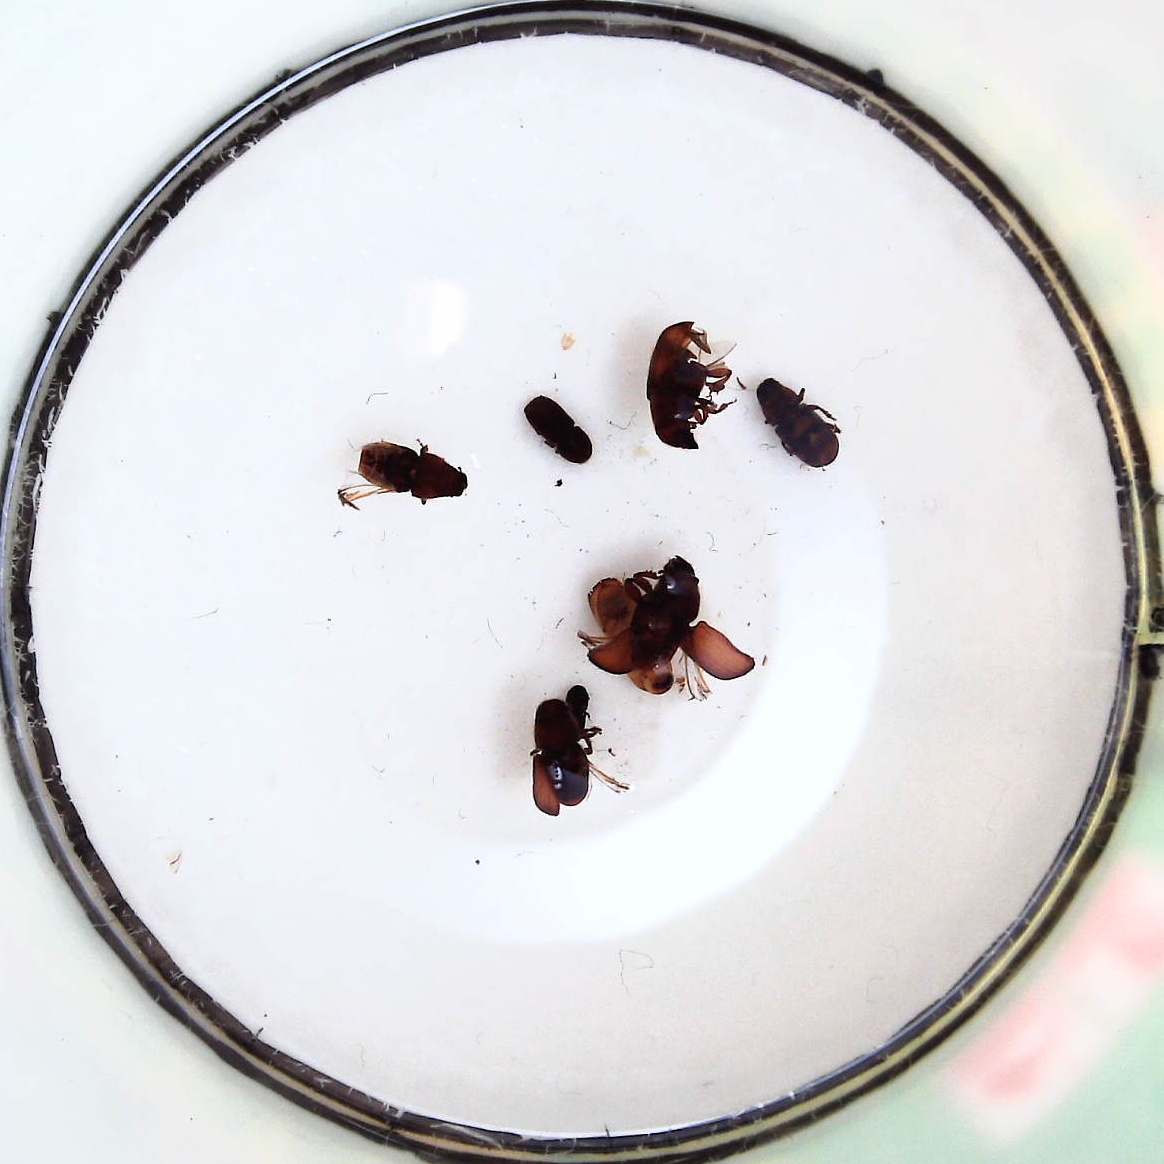Leconte: (630, 555, 758, 680), (644, 314, 728, 455), (753, 373, 843, 470), (349, 435, 469, 506), (528, 699, 589, 817)
Linnaeus: (518, 391, 597, 470)
coleoptera: (566, 681, 594, 729)
